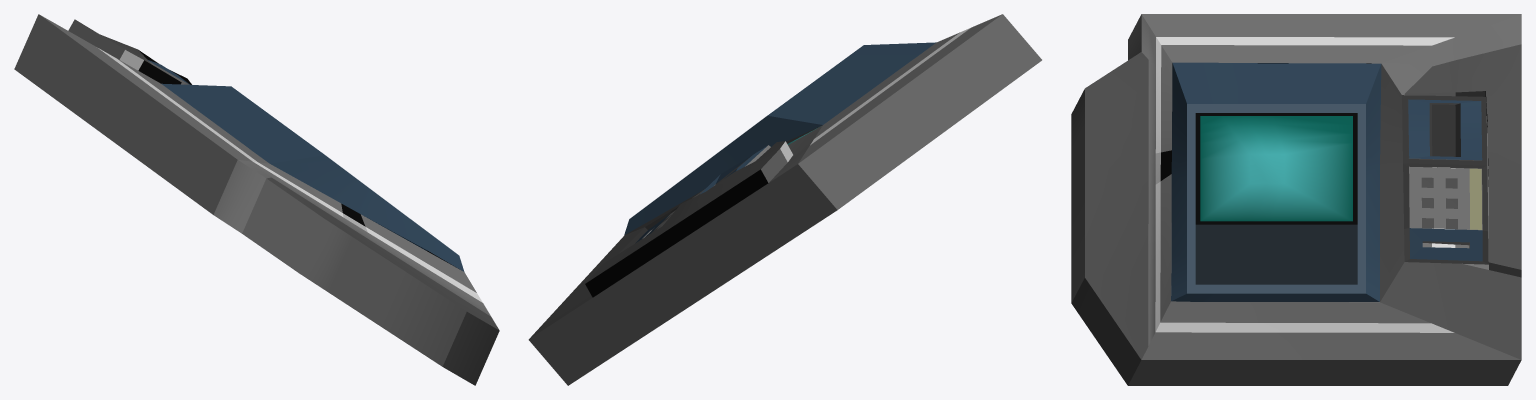
File: consolemin.fbx
The picture shows the model from 3 angles, left to right: view 1: azimuth 30°, elevation 25°; view 2: azimuth 150°, elevation 25°; view 3: azimuth 270°, elevation 25°; orthographic projection. The views are drawn at different scales.
Visible parts, largest first — view 1: polySurface1; view 2: polySurface1; view 3: polySurface1.
Boxes of the visible parts, x1,y1,x2,y2 form: polySurface1: [14, 14, 499, 385]; polySurface1: [528, 14, 1041, 385]; polySurface1: [1071, 14, 1521, 385].
Size of the model in its own units: 1.31 by 1.18 by 1.83.
